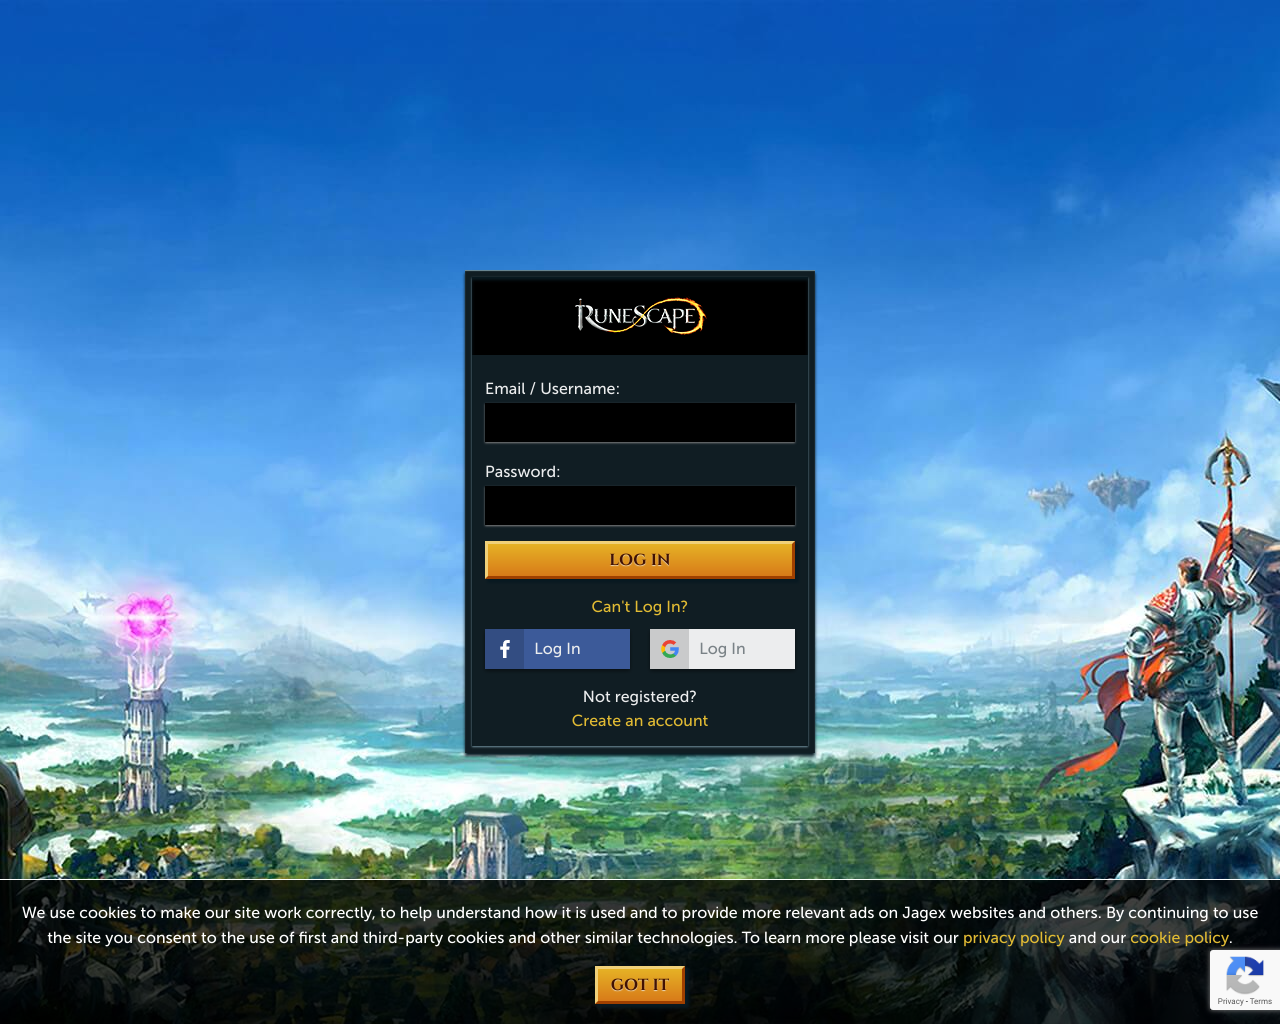Runescape: (559, 290, 718, 344)
